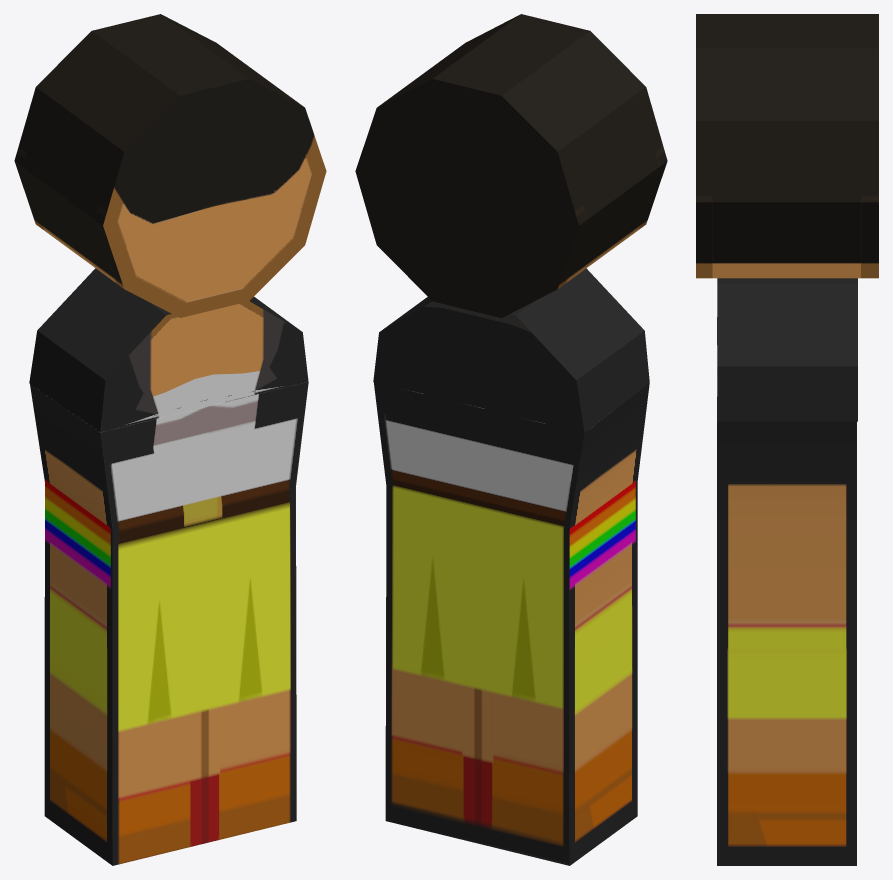
File: human_petit.fbx
3 renders of one model, left to right at view 1: azimuth 30°, elevation 25°; view 2: azimuth 150°, elevation 25°; view 3: azimuth 270°, elevation 25°, orthographic. The views are drawn at different scales.
Visible parts, largest first — view 1: polySurface4, pCylinder4; view 2: polySurface4, pCylinder4; view 3: polySurface4, pCylinder4.
Boxes of the visible parts, bbox=[...] form: polySurface4: bbox=[29, 268, 308, 865]; pCylinder4: bbox=[14, 14, 326, 317]; polySurface4: bbox=[373, 268, 649, 865]; pCylinder4: bbox=[355, 14, 667, 318]; polySurface4: bbox=[717, 278, 857, 865]; pCylinder4: bbox=[696, 14, 878, 278].
Bounding box in the file's own units: 1.21 × 3.95 × 0.8315.
